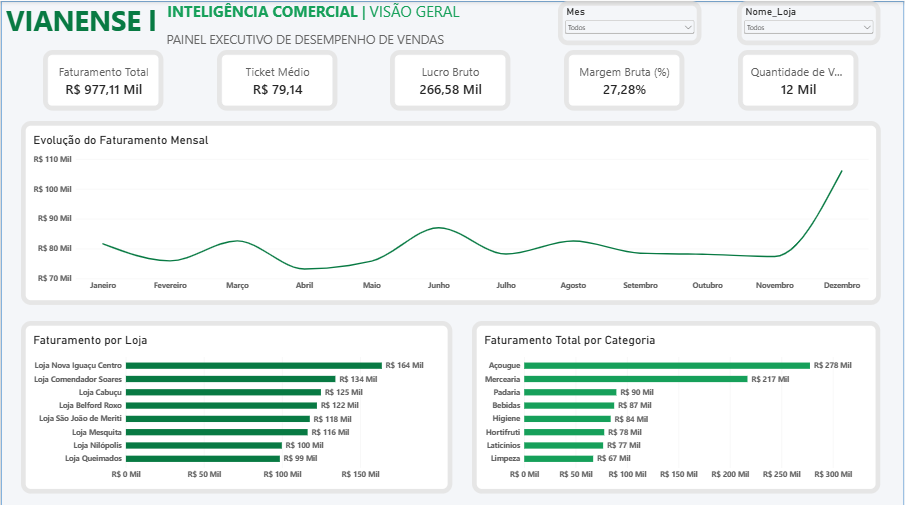

Layout of this report page (visuals, bound fields, positions):
{"tool":"powerbi","page":{"name":"01 - Visão Geral","canvas":[1920,1080],"ordinal":0},"visuals":[{"type":"shape","box":[0,0,1920,1081.3],"z":0},{"type":"cardVisual","fields":{"Data":["tb_Vendas.Faturamento Total"]},"box":[89,105.2,256.2,129.4],"z":1000},{"type":"cardVisual","fields":{"Data":["tb_Vendas.Lucro Bruto"]},"box":[828,105.2,256,129],"z":2000},{"type":"cardVisual","fields":{"Data":["tb_Vendas.Margem Bruta (%)"]},"box":[1197.3,105.2,256,129],"z":3000},{"type":"cardVisual","fields":{"Data":["tb_Vendas.Quantidade de Vendas"]},"box":[1566.7,105.2,256,129.4],"z":4000},{"type":"cardVisual","fields":{"Data":["tb_Vendas.Ticket Médio"]},"box":[458.6,105.2,256,129],"z":5000},{"type":"lineChart","title":"Evolução do Faturamento Mensal","fields":{"Category":["tb_Calendario.Mes"],"Y":["tb_Vendas.Faturamento Total"]},"box":[43.1,256.2,1828.3,391],"z":6000},{"type":"barChart","title":"Faturamento por Loja","fields":{"Category":["tb_Lojas.Nome_Loja"],"Y":["tb_Vendas.Faturamento Total"]},"box":[43.1,679.6,916.9,366.7],"z":7000},{"type":"clusteredBarChart","fields":{"Category":["tb_Produtos.Categoria"],"Y":["tb_Vendas.Faturamento Total"]},"box":[1000.4,679.6,868.3,366.7],"z":8000},{"type":"slicer","fields":{"Values":["tb_Calendario.Mes"]},"box":[1183.8,0,304.7,94.4],"z":9000},{"type":"slicer","fields":{"Values":["tb_Lojas.Nome_Loja"]},"box":[1564,0,304.7,94.4],"z":10000},{"type":"textbox","box":[10.8,0,353.3,105.2],"z":11000},{"type":"textbox","box":[345.2,0,655.3,105.2],"z":12000}]}

Visuals, with their boxes in screenshot pixels (x1, y1, x2, y2), scaled from the page's 1920x1080 canvas onto the 905x505 screenshot:
shape: 0 0 904 504
cardVisual - tb_Vendas.Faturamento Total: 42 49 163 110
cardVisual - tb_Vendas.Lucro Bruto: 390 49 511 110
cardVisual - tb_Vendas.Margem Bruta (%): 564 49 685 110
cardVisual - tb_Vendas.Quantidade de Vendas: 738 49 859 110
cardVisual - tb_Vendas.Ticket Médio: 216 49 337 110
"Evolução do Faturamento Mensal" lineChart: 20 120 882 303
"Faturamento por Loja" barChart: 20 318 452 489
clusteredBarChart - tb_Produtos.Categoria x tb_Vendas.Faturamento Total: 472 318 881 489
slicer - tb_Calendario.Mes: 558 0 702 44
slicer - tb_Lojas.Nome_Loja: 737 0 881 44
textbox: 5 0 172 49
textbox: 163 0 472 49
